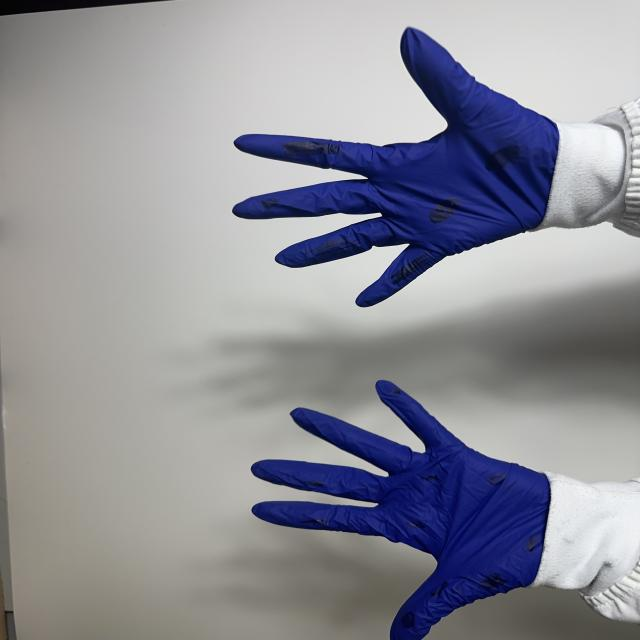gloves_contaminated: (233, 28, 560, 306), (252, 380, 550, 640)
